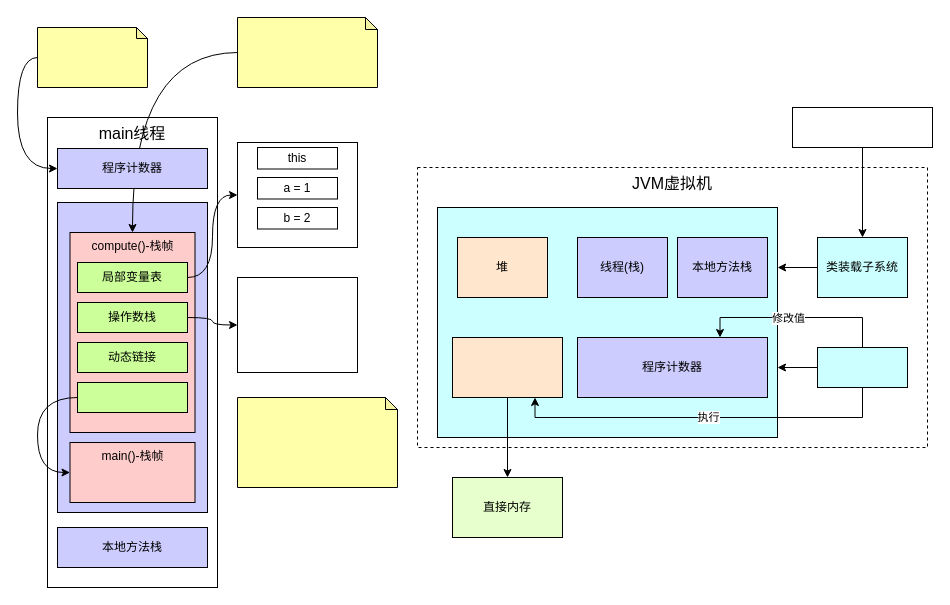
Some shapes in this 950 by 605 pixel diagram are drawn without their labels. The shapes that lost their labels are listed below. From the top down, each one's box as (x1, y1, x2, y2) in pixels, then its label:
(36, 26, 148, 88): 每个线程都有一个程序计数器，记录当前线程执行的行号
(236, 16, 378, 88): public void compute() { int a = 1; int b = 2; }
(792, 106, 932, 148): Java Math.class
(436, 206, 778, 438): 运行时数据区(内存模型)
(56, 202, 208, 512): FIFO(线程)
(452, 336, 562, 398): 方法区 (元空间) 常量+静态变量 +类元信息
(816, 346, 908, 388): 字节码执行引擎
(76, 382, 188, 412): 方法出口
(236, 396, 398, 488): 将符号引用在程序执行过程中转变为直接引用；例如:在程序执行过程中通过方法名"compute"找到方法的执行入口。
